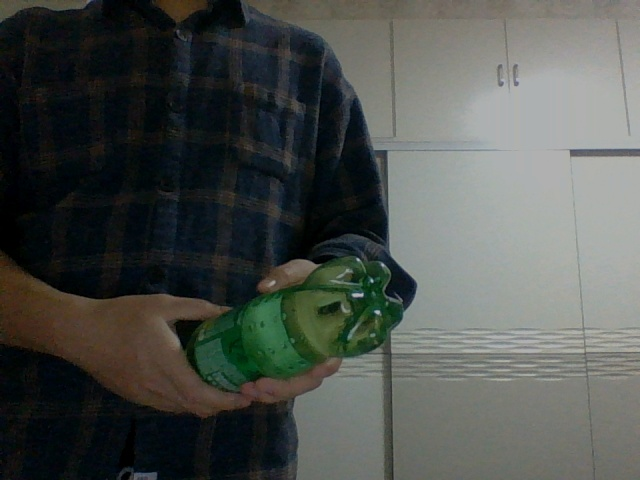Sprite: (184, 255, 404, 392)
